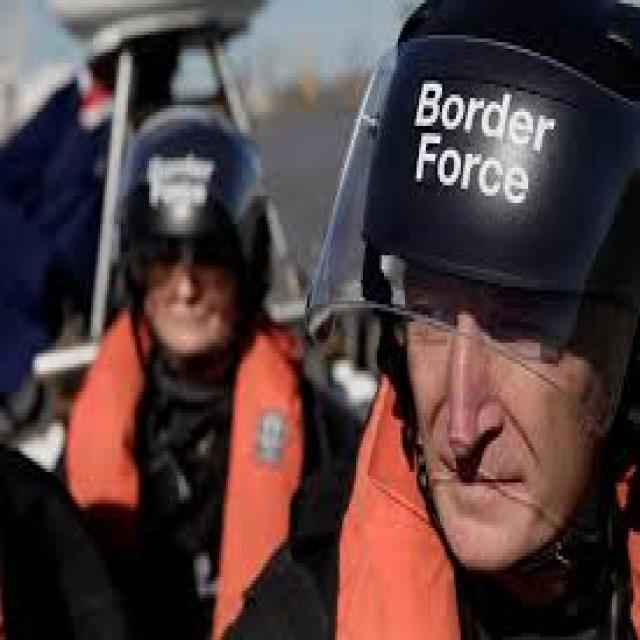reflective_jacket: (0, 283, 335, 636)
safety_helmet: (344, 10, 639, 318)
